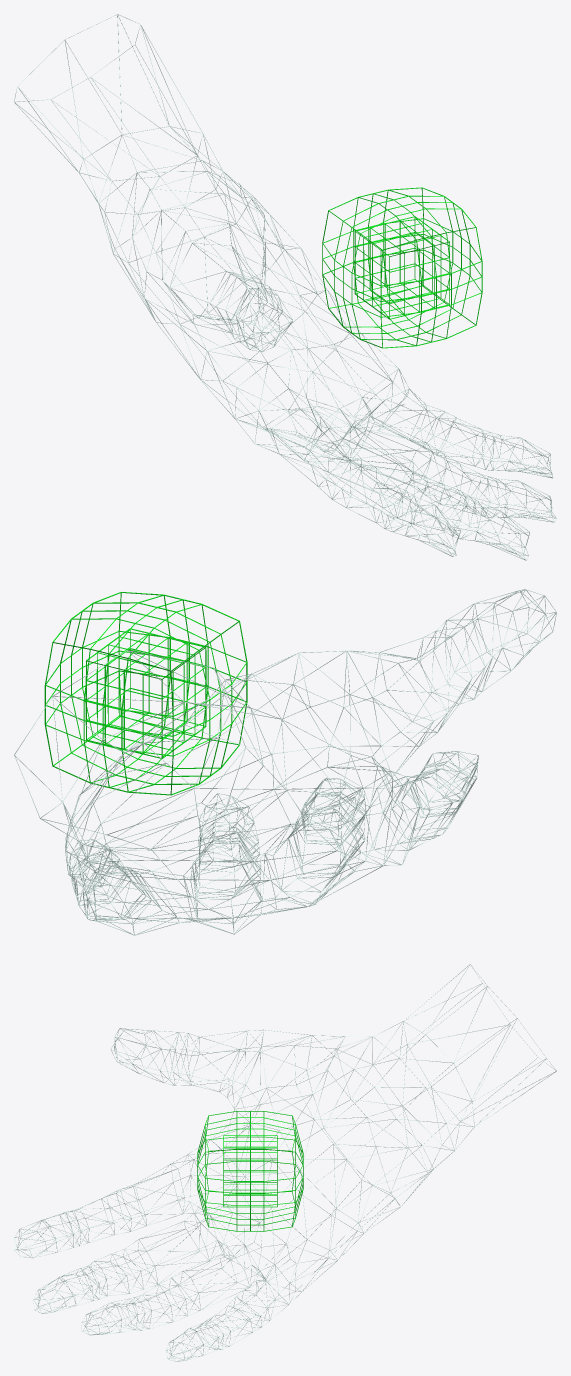
File: tes01.glb
The picture shows the model from 3 angles, top to bottom: view 1: azimuth 30°, elevation 25°; view 2: azimuth 150°, elevation 25°; view 3: azimuth 270°, elevation 25°; orthographic projection. The views are drawn at different scales.
Visible parts, largest first — view 1: Object_5.001, Cube; view 2: Object_5.001, Cube; view 3: Object_5.001, Cube.
Part boxes in pixels (<box>): Object_5.001: <box>14,14,556,560</box>; Cube: <box>322,187,482,348</box>; Object_5.001: <box>14,589,556,935</box>; Cube: <box>44,592,247,795</box>; Object_5.001: <box>14,964,556,1361</box>; Cube: <box>197,1111,303,1231</box>.
Size of the model in its own units: 11.35 by 11.91 by 20.26.
